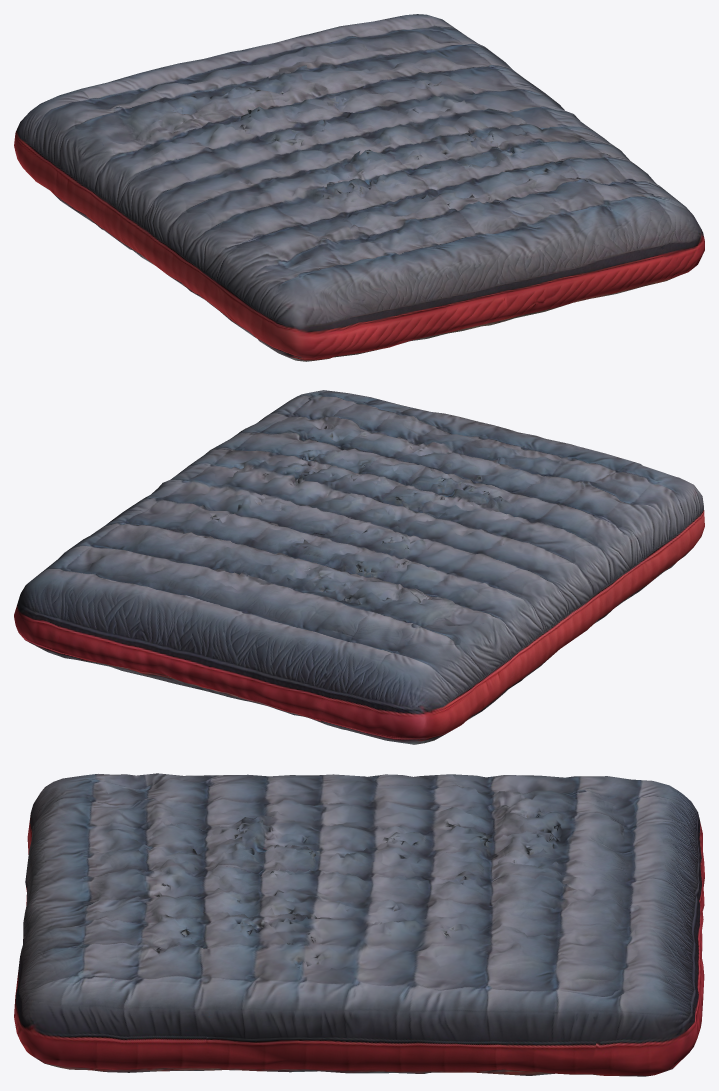
File: The_mattress_is_recta_0813154409_refine.fbx
3 views of the same model, one above another, from view 1: azimuth 30°, elevation 25°; view 2: azimuth 150°, elevation 25°; view 3: azimuth 270°, elevation 25° (orthographic). The views are drawn at different scales.
Visible parts, largest first — view 1: Mesh_0; view 2: Mesh_0; view 3: Mesh_0.
Part boxes in pixels (bbox=[...]): Mesh_0: bbox=[14, 14, 704, 361]; Mesh_0: bbox=[14, 390, 704, 744]; Mesh_0: bbox=[14, 773, 704, 1076].
Bounding box in the file's own units: 102 × 25.17 × 120.
1 material, 1 textured.
